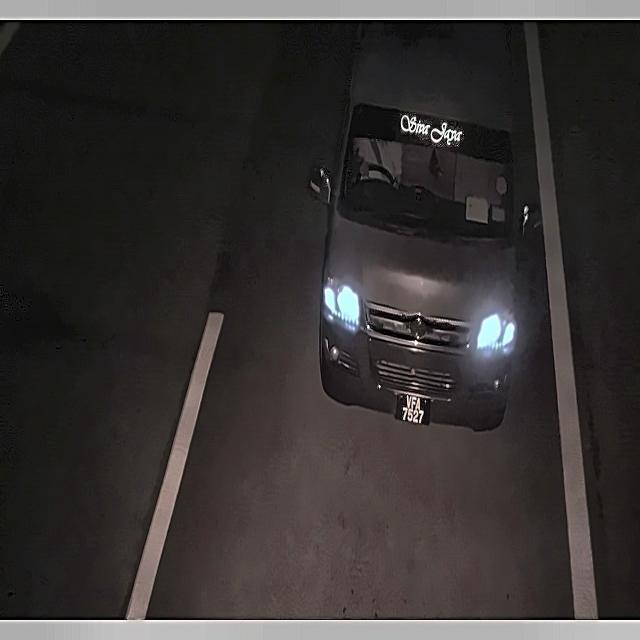car: (392, 387, 436, 430)
